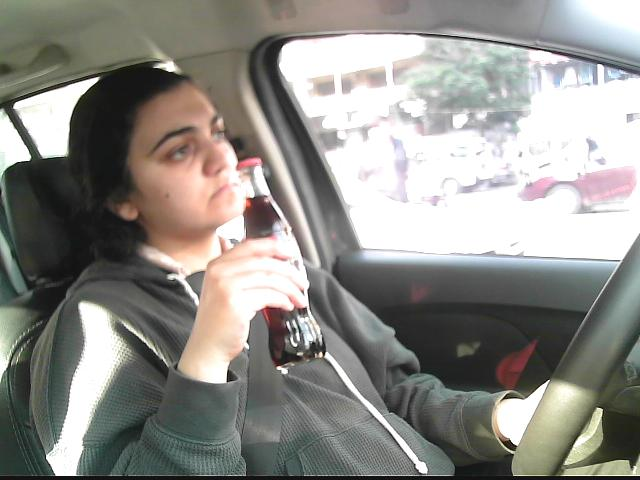Drinking: (107, 78, 325, 365)
